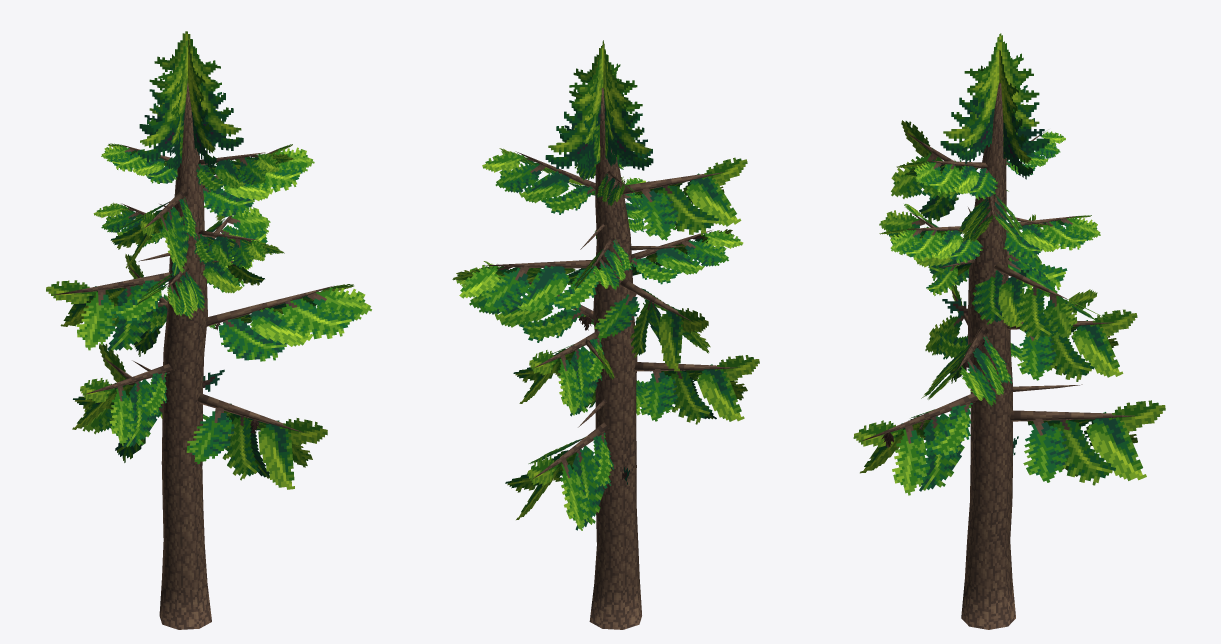
Rendered from pine1.gltf.
The picture shows the model from 3 angles, left to right: view 1: azimuth 30°, elevation 25°; view 2: azimuth 150°, elevation 25°; view 3: azimuth 270°, elevation 25°; orthographic projection.
Parts seen in each view (by area): view 1: leaf, tree; view 2: leaf, tree; view 3: leaf, tree.
Part boxes in pixels (x1,y1,x2,y2): leaf: (46,31,371,489); tree: (52,81,332,629); leaf: (452,40,759,530); tree: (483,88,737,629); leaf: (853,33,1165,495); tree: (861,82,1135,629).
Bounding box in the file's own units: 9.55 × 15.25 × 9.01.
Materials: 1 (1 with a texture image).
